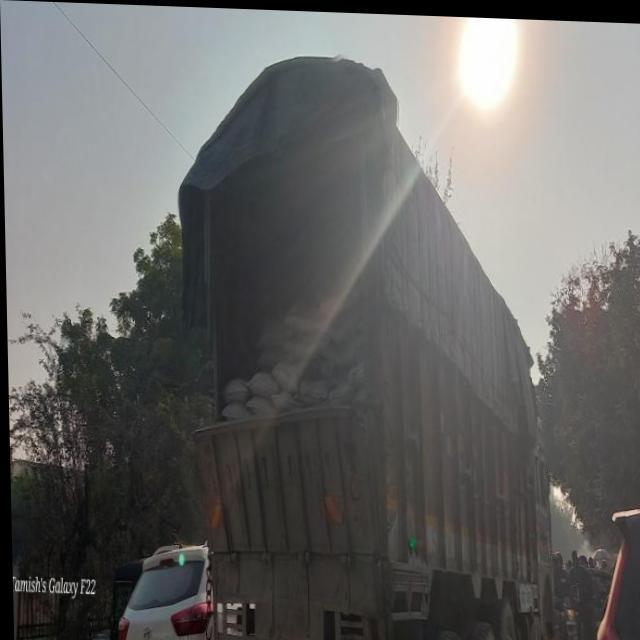covered: (185, 51, 557, 624)
